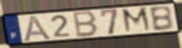2: (50, 15, 73, 39)
7: (99, 8, 120, 36)
A: (22, 14, 53, 43)
B: (73, 10, 100, 39), (148, 5, 175, 33)
M: (120, 6, 154, 35)
